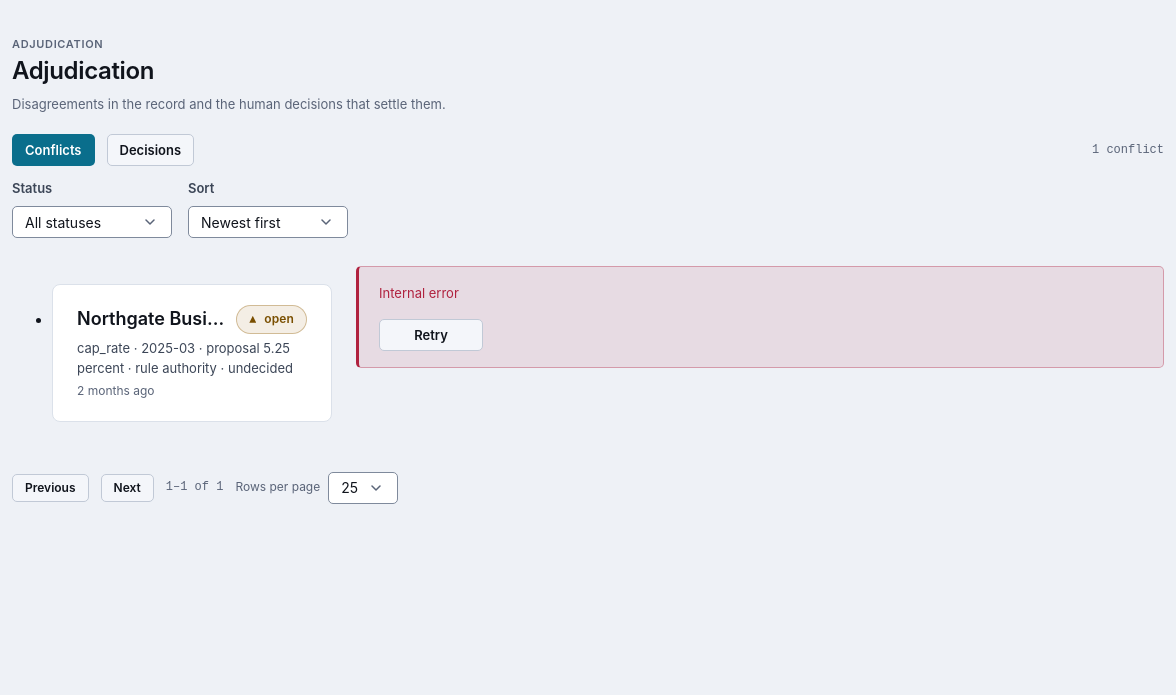
Scenario: AdjudicationPage › offers Retry when the by-id fetch fails
This screenshot has width=1176, height=695.
Expected: the text "Internal error" is shown, [379,285,459,301]
Click the button "Retry".
click(431, 335)  # box [379,319,483,351]
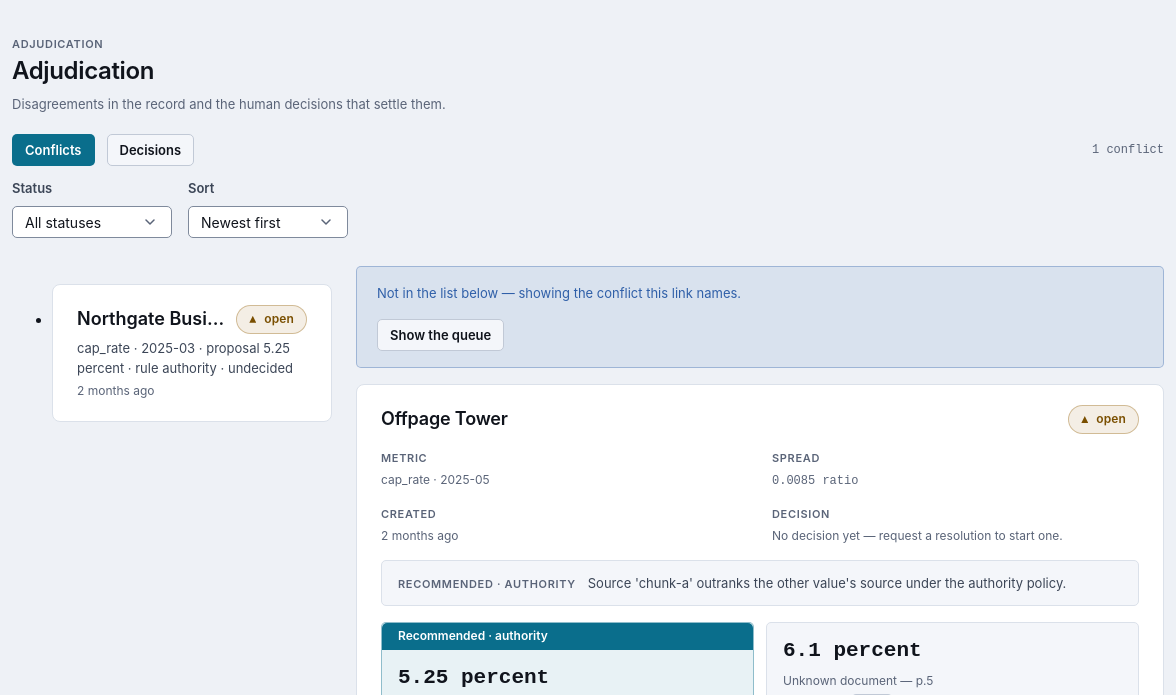
Now the heading "Offpage Tower" is shown, box [381,408,508,431]
